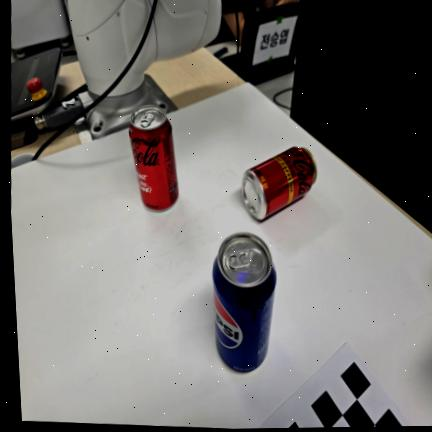can_coke_decaf: (240, 146, 318, 220)
can_coke_zero: (129, 106, 178, 213)
can_pepsi: (212, 233, 276, 371)
